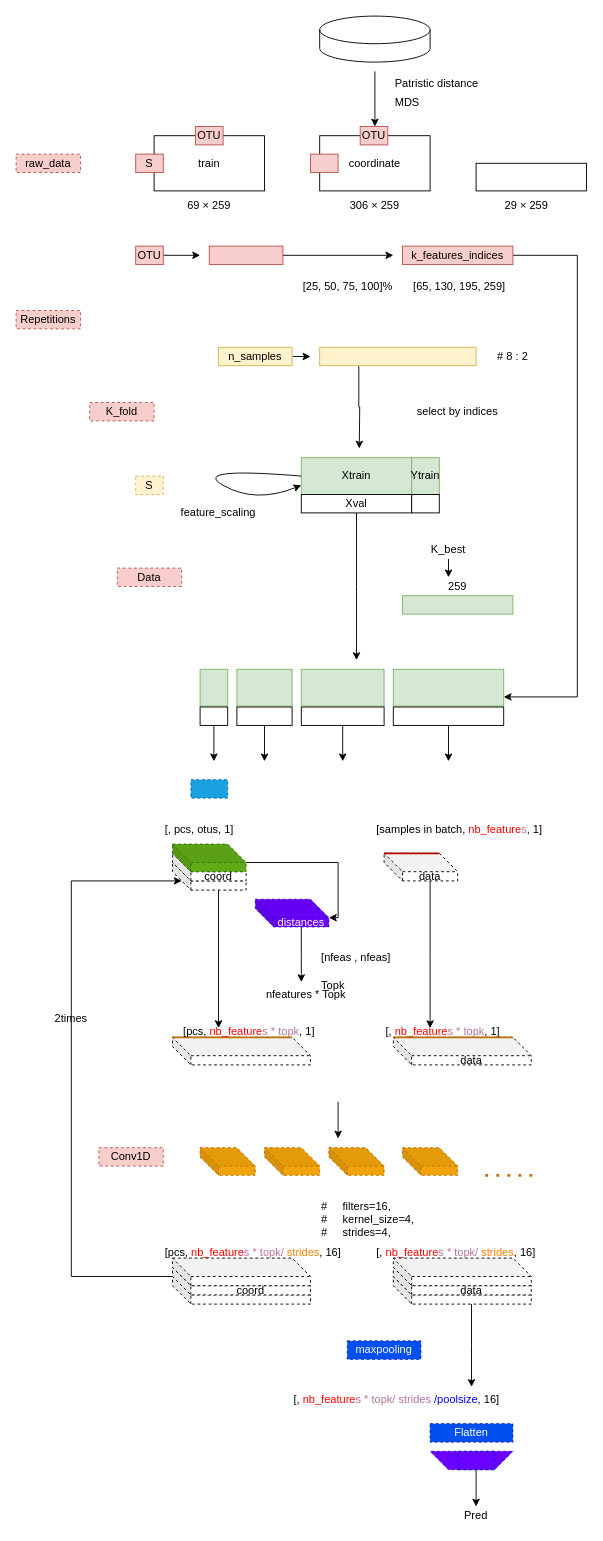
The diagram is 603 pixels wide and 1541 high, and some of its shapes have lost their labels. The centre of each missing label's shape, as x and y in pixels:
"Dense" belongs at pixel 475 1460.
"feature_ranking" belongs at pixel 457 604.
"kfold_indices" belongs at pixel 397 356.
"model" belongs at pixel 209 788.
"n_features" belongs at pixel 245 254.
"PC" belongs at pixel 324 162.
"Phylogenetic Tree" belongs at pixel 374 38.
"test" belongs at pixel 530 176.
"Yval" belongs at pixel 425 503.
